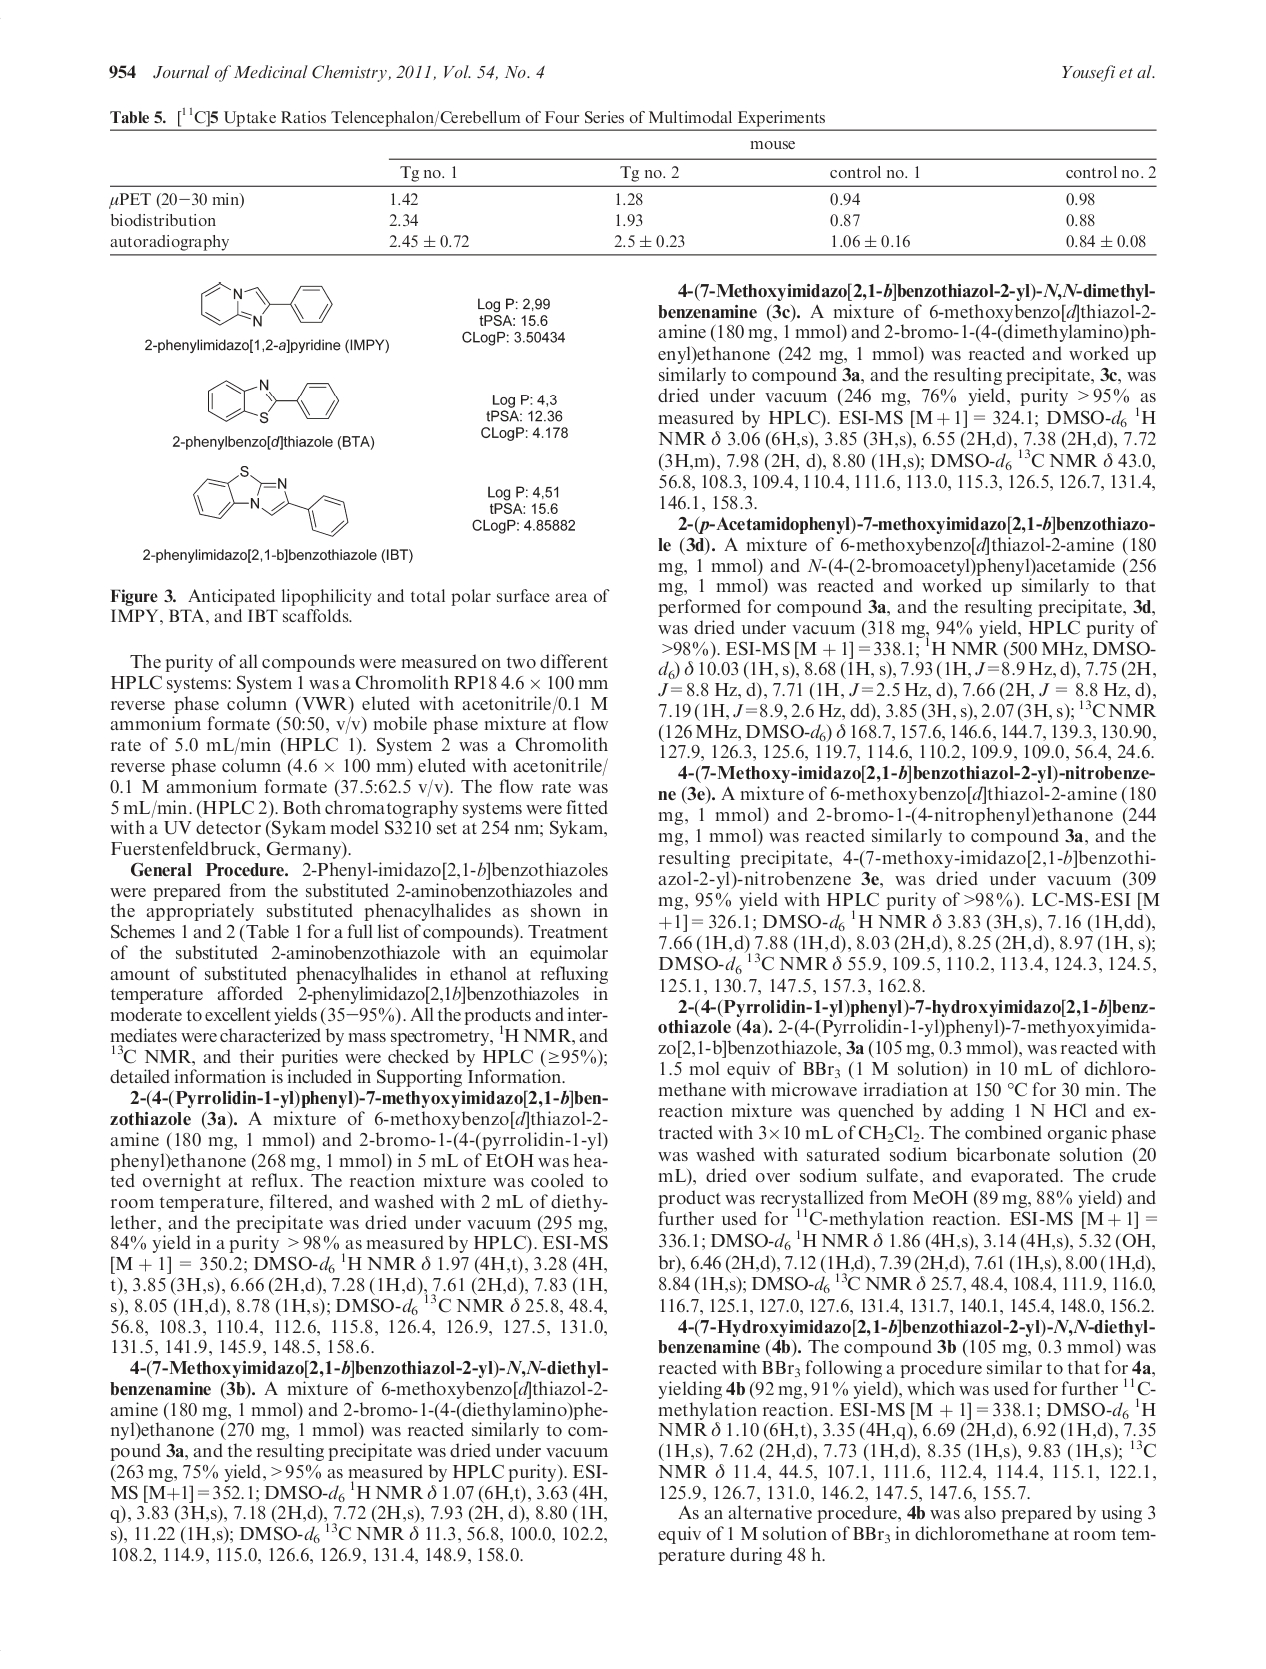exist_molecular: (190, 460, 356, 539), (203, 370, 348, 426), (194, 279, 338, 332)
